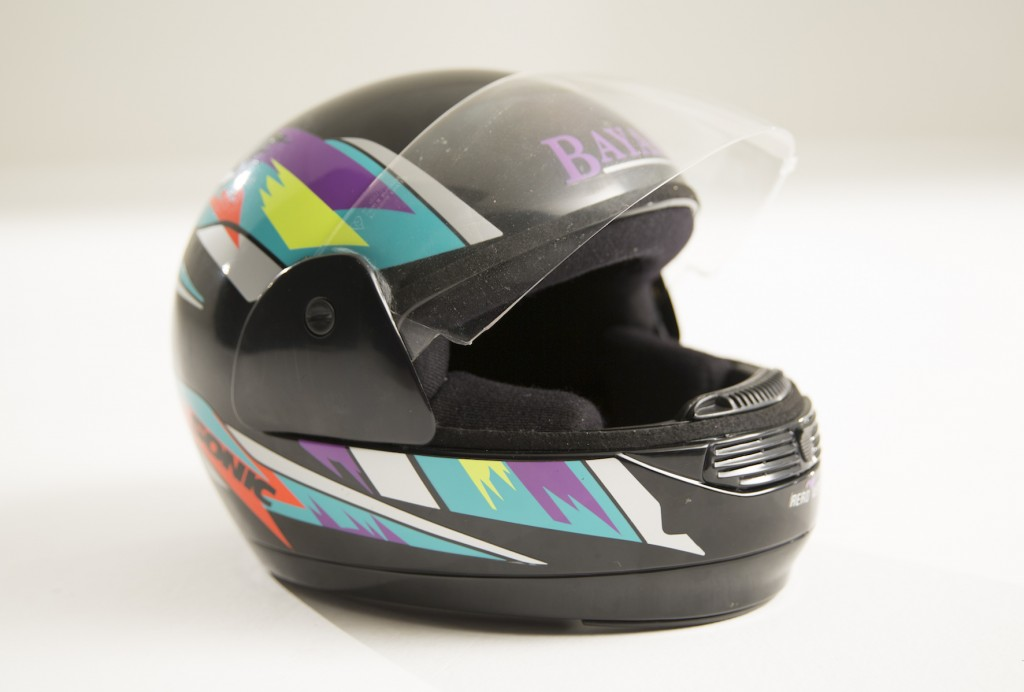with_helmet: (170, 51, 827, 638)
